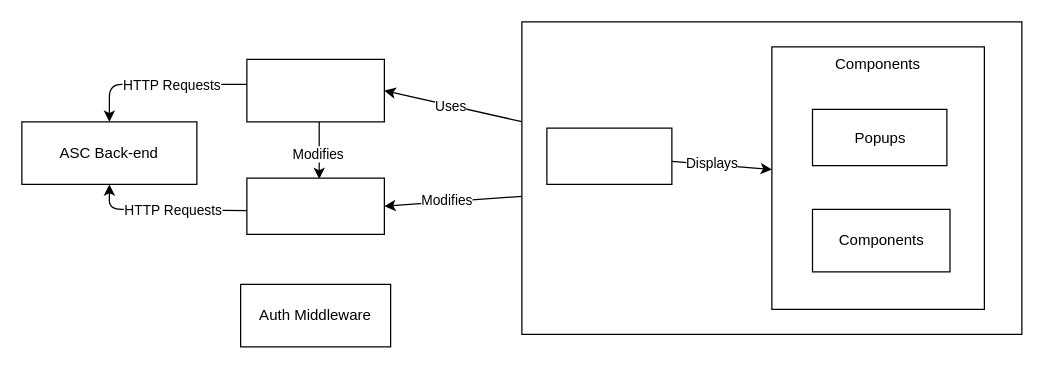
Some shapes in this 1044 by 369 pixel diagram are drawn without their labels. Each missing label, with the centre of its shape:
"Composables" belongs at point 315,90.
"Pages" belongs at point 609,155.
"Stores" belongs at point 315,205.
